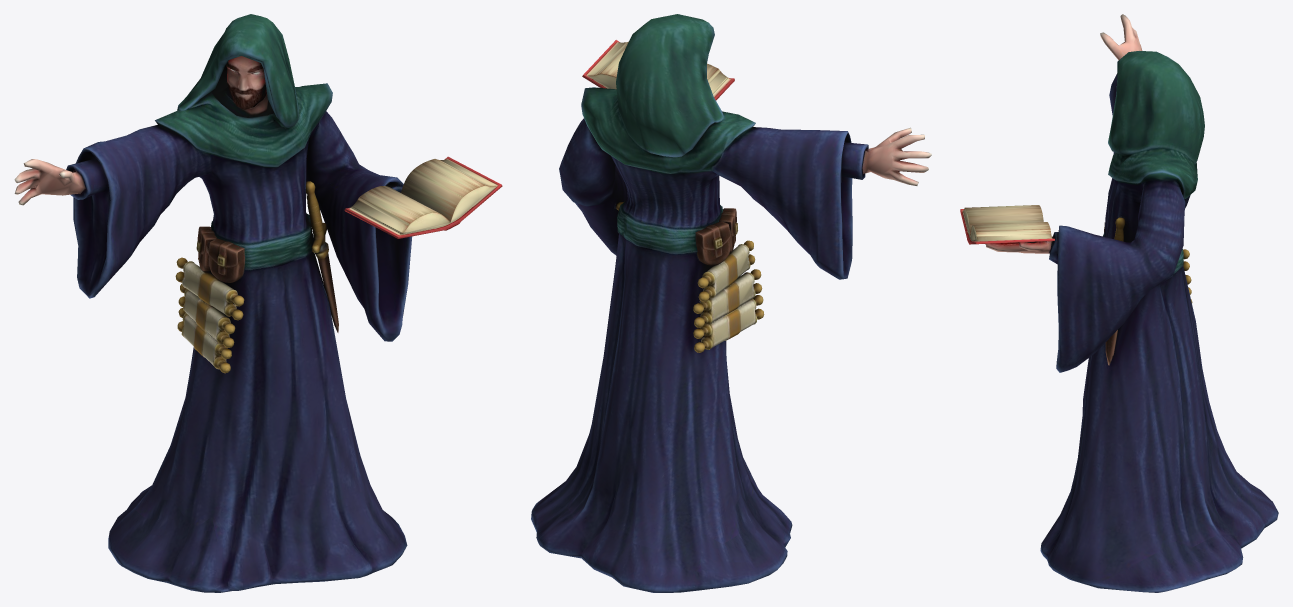
The model's file is MZ4250 - Human Male Wizard Blue Robe.glb.
The picture shows the model from 3 angles, left to right: view 1: azimuth 30°, elevation 25°; view 2: azimuth 150°, elevation 25°; view 3: azimuth 270°, elevation 25°; orthographic projection. The views are drawn at different scales.
Parts seen in each view (by area): view 1: body_low.001, book_low.001, sc1_low.001, dagger_low.001, sc2_low.001, sc3_low.001, pouch_low.001; view 2: body_low.001, sc2_low.001, sc3_low.001, book_low.001, sc1_low.001, pouch2_low.001; view 3: body_low.001, book_low.001, dagger_low.001.
Boxes of the visible parts, x1,y1,x2,y2 form: body_low.001: (14, 14, 412, 592); book_low.001: (344, 156, 502, 238); sc1_low.001: (175, 257, 244, 320); dagger_low.001: (306, 181, 338, 332); sc2_low.001: (178, 284, 235, 347); sc3_low.001: (177, 308, 231, 373); pouch_low.001: (208, 238, 245, 282); body_low.001: (531, 14, 931, 592); sc2_low.001: (693, 269, 762, 327); sc3_low.001: (693, 295, 764, 352); book_low.001: (582, 40, 734, 100); sc1_low.001: (697, 240, 755, 301); pouch2_low.001: (695, 221, 730, 265); body_low.001: (985, 14, 1278, 592); book_low.001: (960, 205, 1054, 244); dagger_low.001: (1105, 217, 1125, 365).
Bounding box in the file's own units: 4.92 × 6.15 × 3.7.
Materials: 1 (1 with a texture image).
